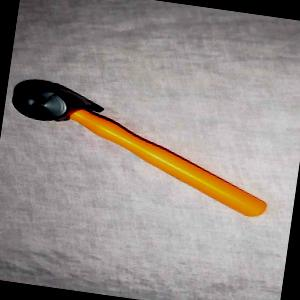martelo: (0, 80, 281, 218)
